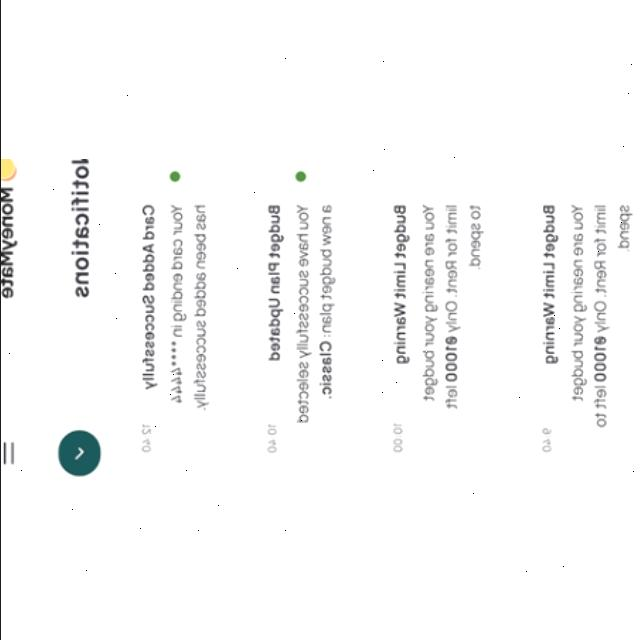QLabel: (294, 202, 312, 426), (191, 202, 209, 412), (168, 203, 186, 405), (419, 203, 436, 403), (570, 203, 586, 403), (68, 159, 90, 297), (141, 204, 157, 390), (265, 204, 283, 364), (542, 202, 558, 366), (392, 204, 408, 366), (442, 204, 460, 332), (591, 204, 609, 332), (318, 204, 334, 338), (0, 185, 16, 299), (467, 204, 483, 272), (318, 340, 332, 400), (592, 385, 608, 429), (618, 204, 632, 253), (593, 336, 607, 382), (444, 336, 456, 382), (264, 424, 278, 454), (391, 423, 404, 455), (443, 385, 457, 411), (140, 423, 152, 453), (541, 428, 551, 452)
VAppBar: (0, 159, 42, 481)
VCard: (368, 159, 508, 479), (514, 160, 640, 476), (113, 159, 233, 477), (241, 160, 359, 476)
VIcon: (0, 438, 14, 466), (0, 159, 16, 181), (74, 447, 85, 461), (168, 171, 180, 181), (294, 172, 306, 182)
